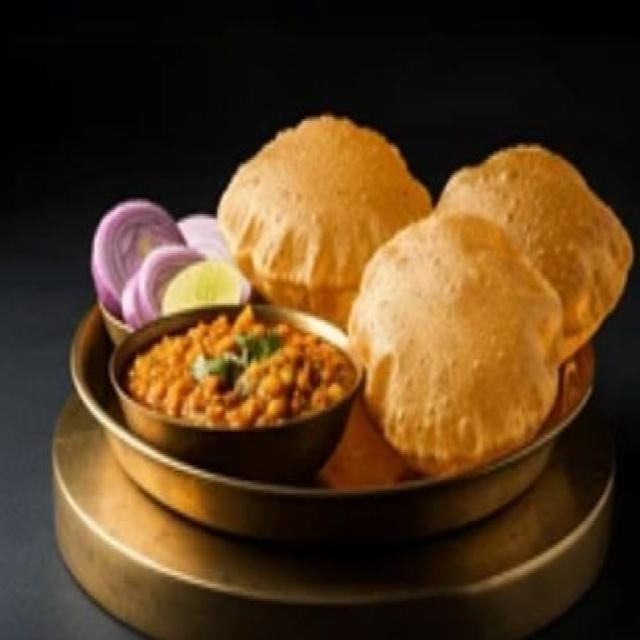POORI: (190, 101, 636, 514)
SUNDAL: (102, 299, 366, 466)
